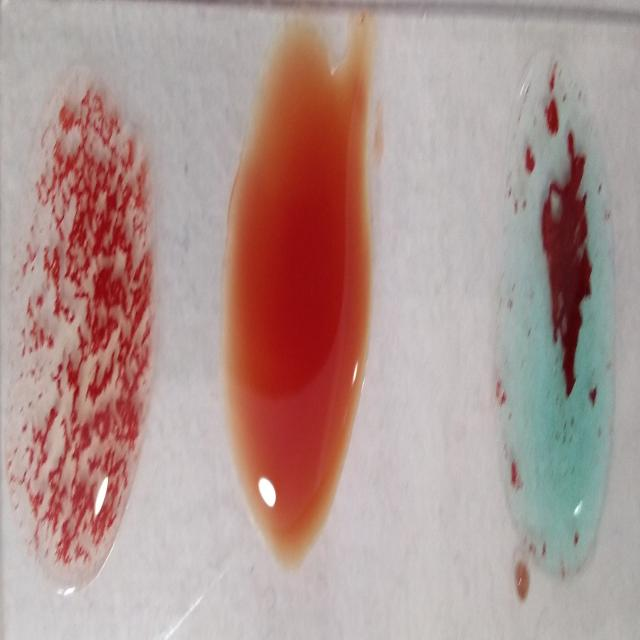A: (501, 66, 615, 573)
D: (3, 80, 152, 602)
